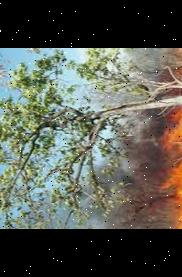fire: (158, 59, 182, 229)
